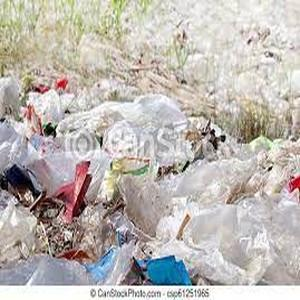Plastic: (175, 151, 267, 202)
